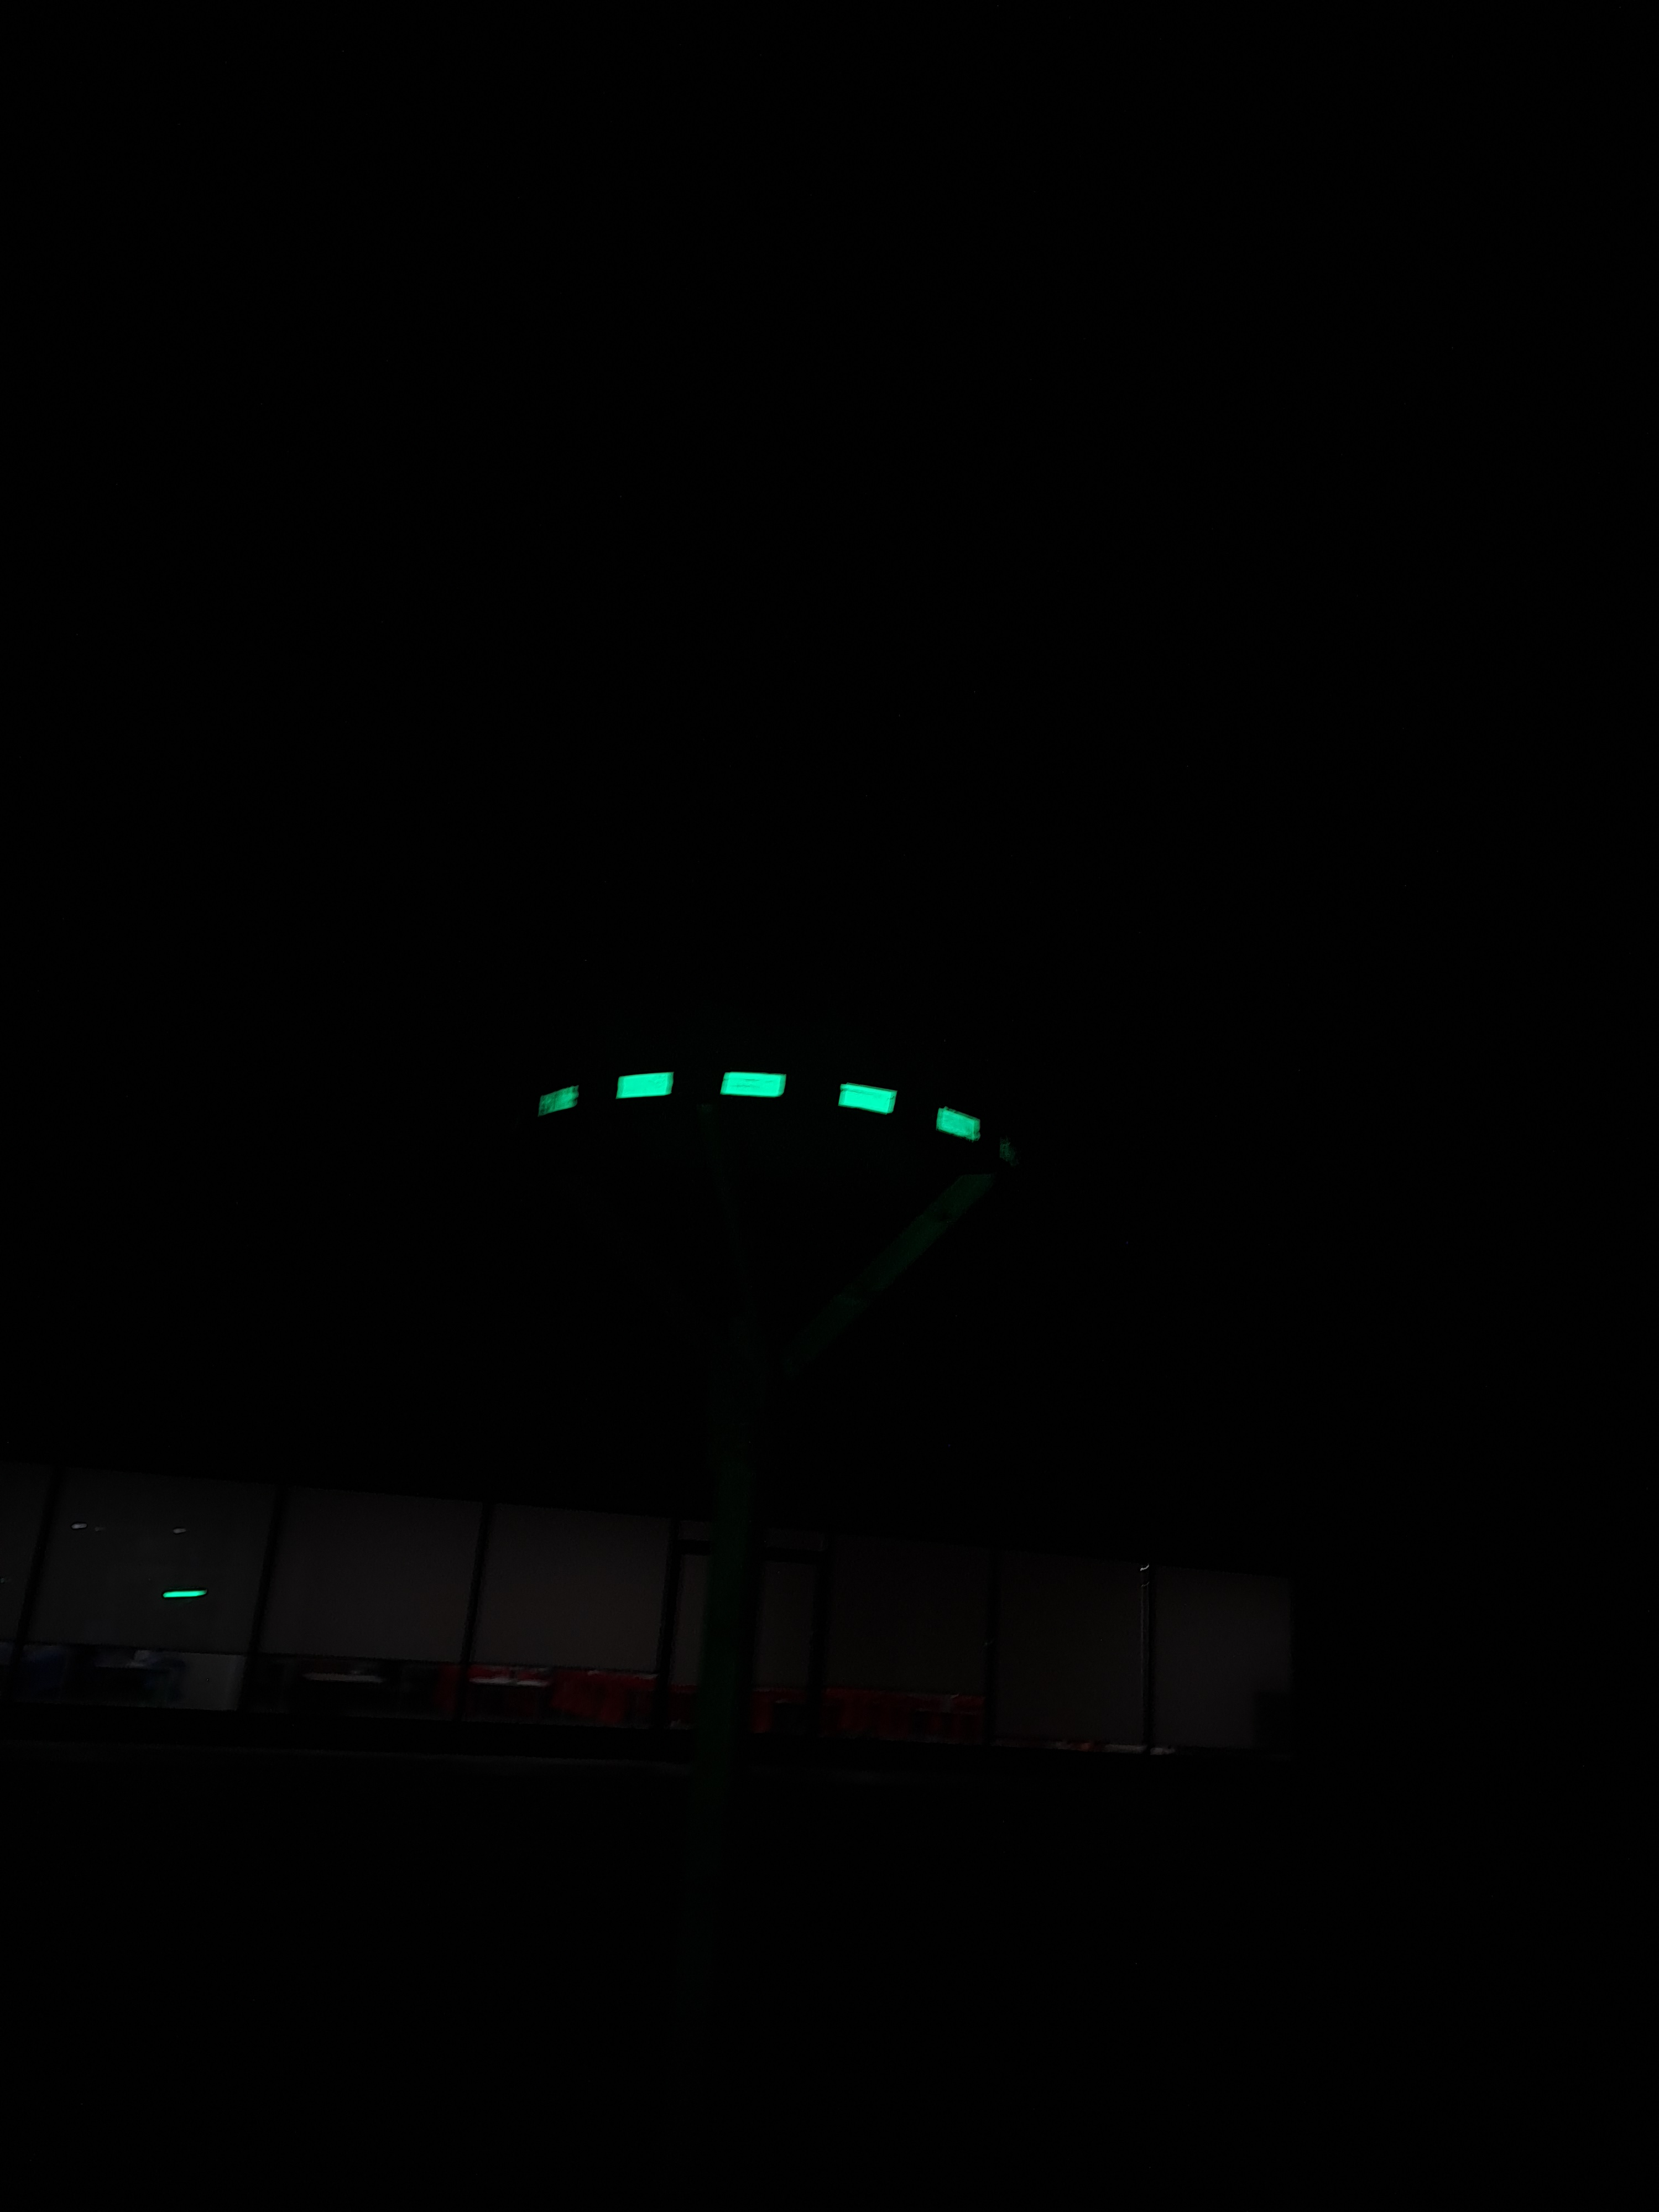hoop: (523, 1066, 985, 1146)
